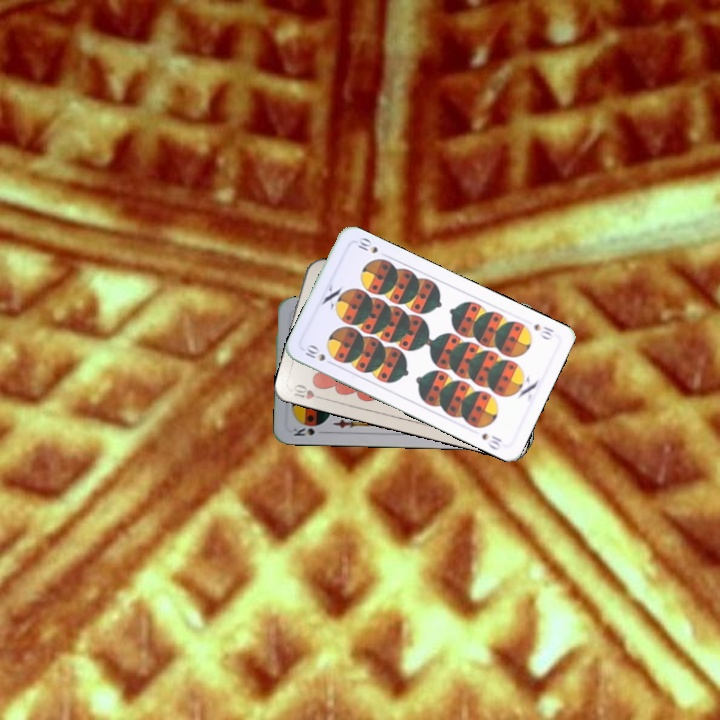H10: (289, 380, 328, 402)
S10: (301, 341, 328, 364), (530, 319, 557, 342)
SK: (289, 421, 323, 439)
